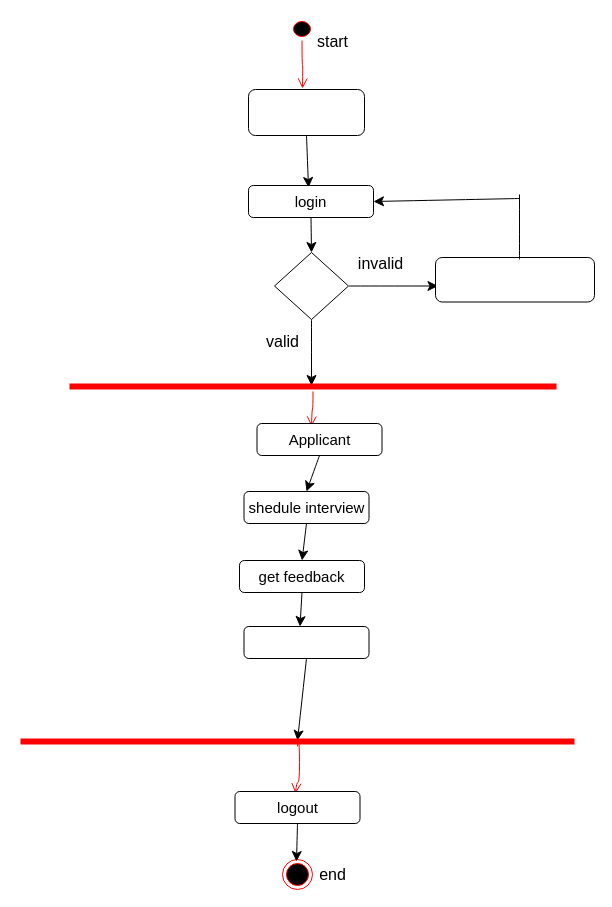
The diagram is 612 pixels wide and 907 high, and some of its shapes have lost their labels. Each missing label, with the centre of its shape:
Applicant is registered: (x=306, y=112)
get interview score: (x=306, y=642)
Re-entered username and password: (x=514, y=279)
